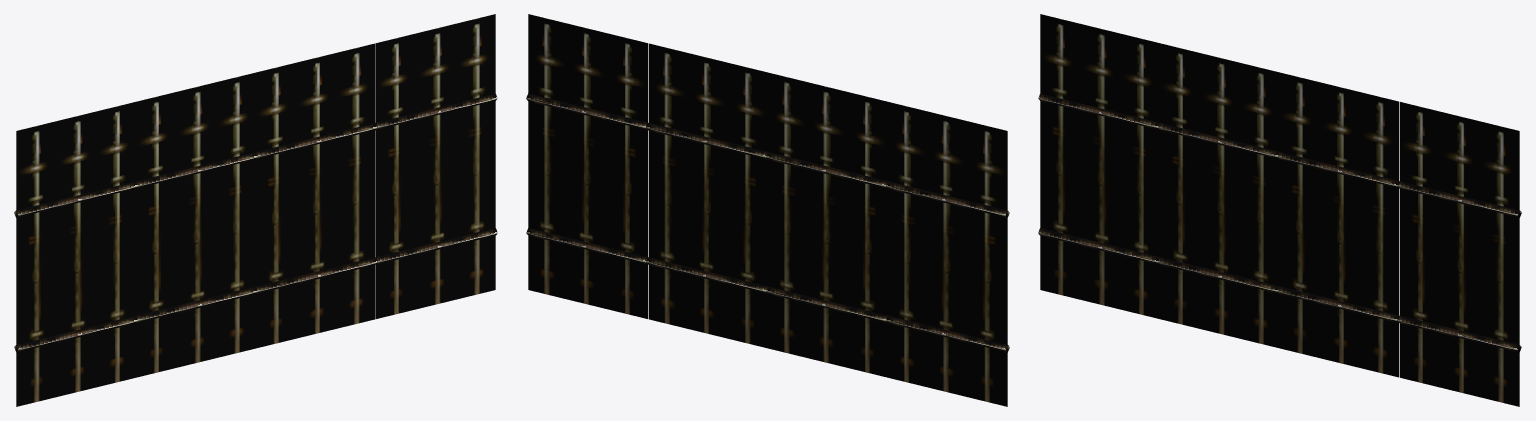
File: SteelWall02.glb
3 renders of one model, left to right at view 1: azimuth 30°, elevation 25°; view 2: azimuth 150°, elevation 25°; view 3: azimuth 330°, elevation 25°, orthographic.
Visible parts, largest first — view 1: SteelWall02; view 2: SteelWall02; view 3: SteelWall02.
Boxes of the visible parts, bbox=[...] form: SteelWall02: bbox=[14, 14, 497, 406]; SteelWall02: bbox=[526, 14, 1009, 406]; SteelWall02: bbox=[1038, 14, 1521, 406].
Size of the model in its own units: 4 by 2.2 by 0.0644.
Materials: 2 (2 with a texture image).
